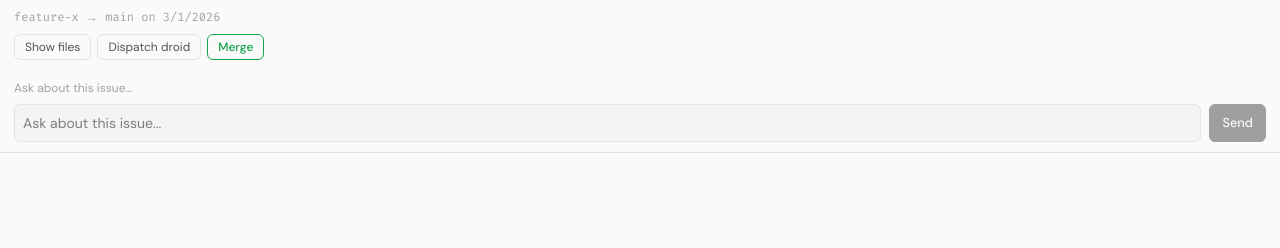
Scenario: PrCard › hides files when toggle is clicked again
The image size is (1280, 248).
Click the button "Show files".
click(53, 47)  # box [14,34,91,60]
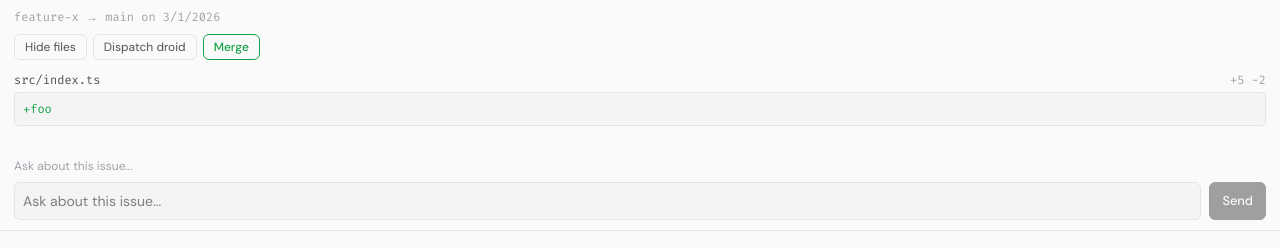
Now the text "src/index.ts" is shown, box [14,72,100,88]
Click the button "Hide files".
click(50, 47)  # box [14,34,87,60]
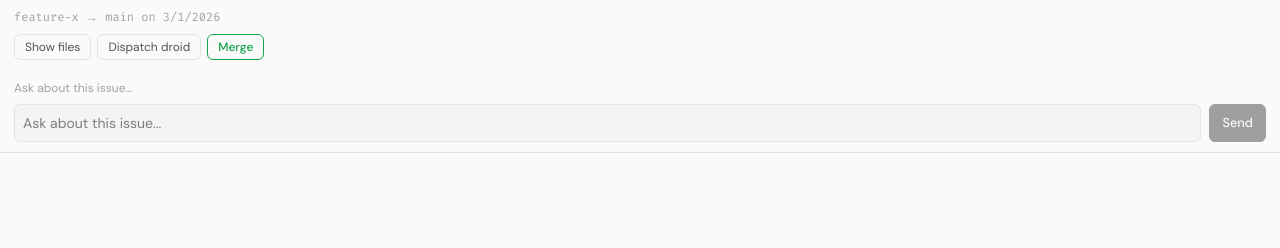
Now the text "src/index.ts" is gone
